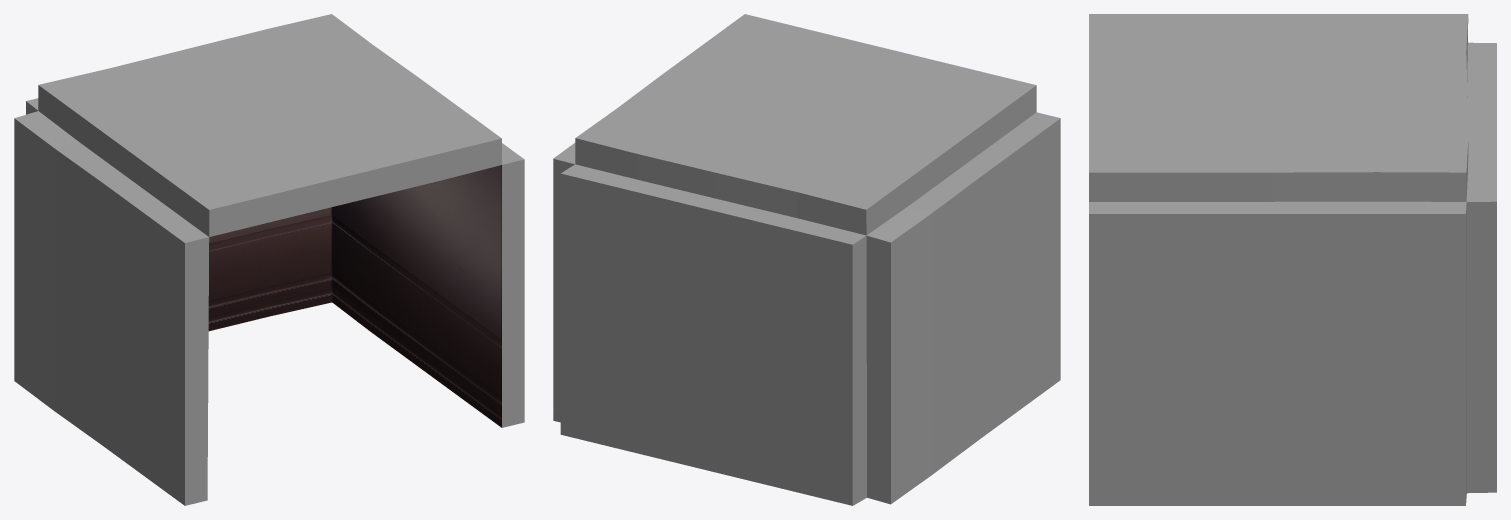
Rendered from ElevatorWalls.fbx.
3 renders of one model, left to right at view 1: azimuth 30°, elevation 25°; view 2: azimuth 150°, elevation 25°; view 3: azimuth 270°, elevation 25°, orthographic. The views are drawn at different scales.
Parts seen in each view (by area): view 1: polySurface11; view 2: polySurface11; view 3: polySurface11.
Boxes of the visible parts, x1,y1,x2,y2 form: polySurface11: [14, 14, 524, 505]; polySurface11: [553, 14, 1060, 505]; polySurface11: [1089, 14, 1496, 505].
Size of the model in its own units: 22.84 by 18.6 by 21.36.
Materials: 2 (1 with a texture image).
